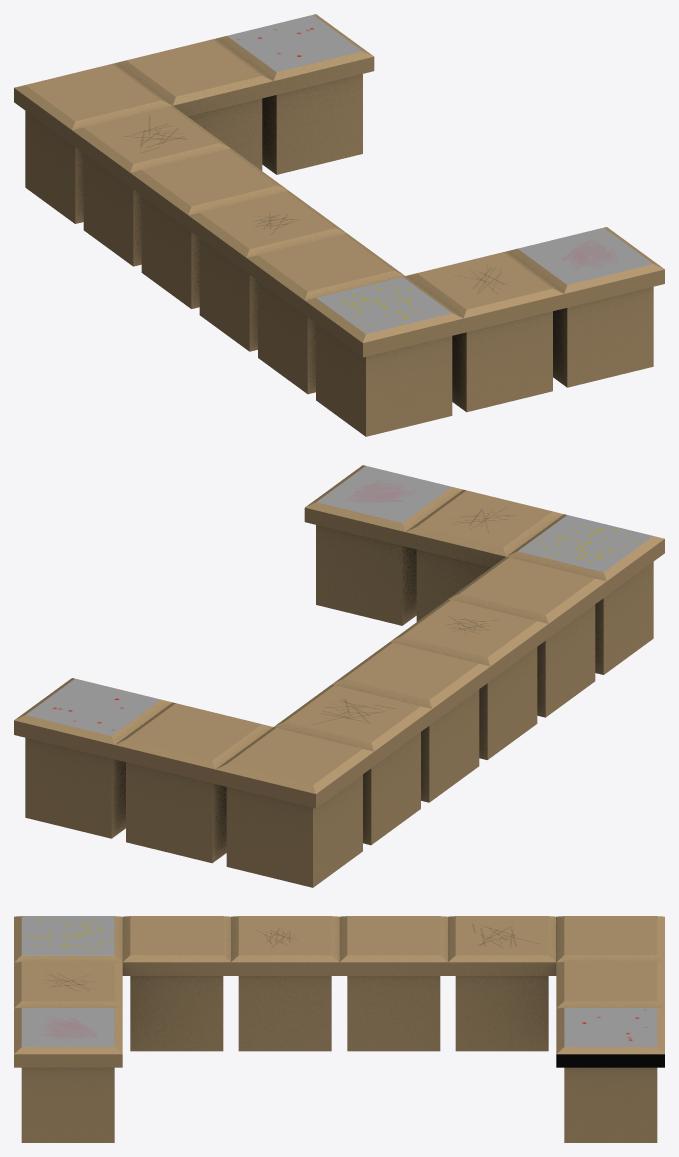
File: Countertop2.fbx
3 views of the same model, one above another, from view 1: azimuth 30°, elevation 25°; view 2: azimuth 150°, elevation 25°; view 3: azimuth 270°, elevation 25° (orthographic). The views are drawn at different scales.
Visible parts, largest first — view 1: Cube.006; view 2: Cube.006; view 3: Cube.006.
Boxes of the visible parts, box(x1,y1,x2,y2) form: Cube.006: box(14, 14, 664, 436); Cube.006: box(14, 465, 664, 887); Cube.006: box(14, 916, 664, 1142).
Size of the model in its own units: 701 by 228 by 1401.
1 material, 1 textured.
